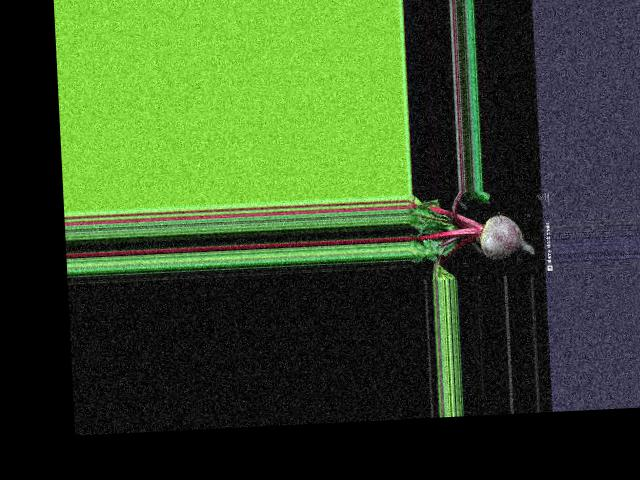beet: (408, 187, 536, 281)
